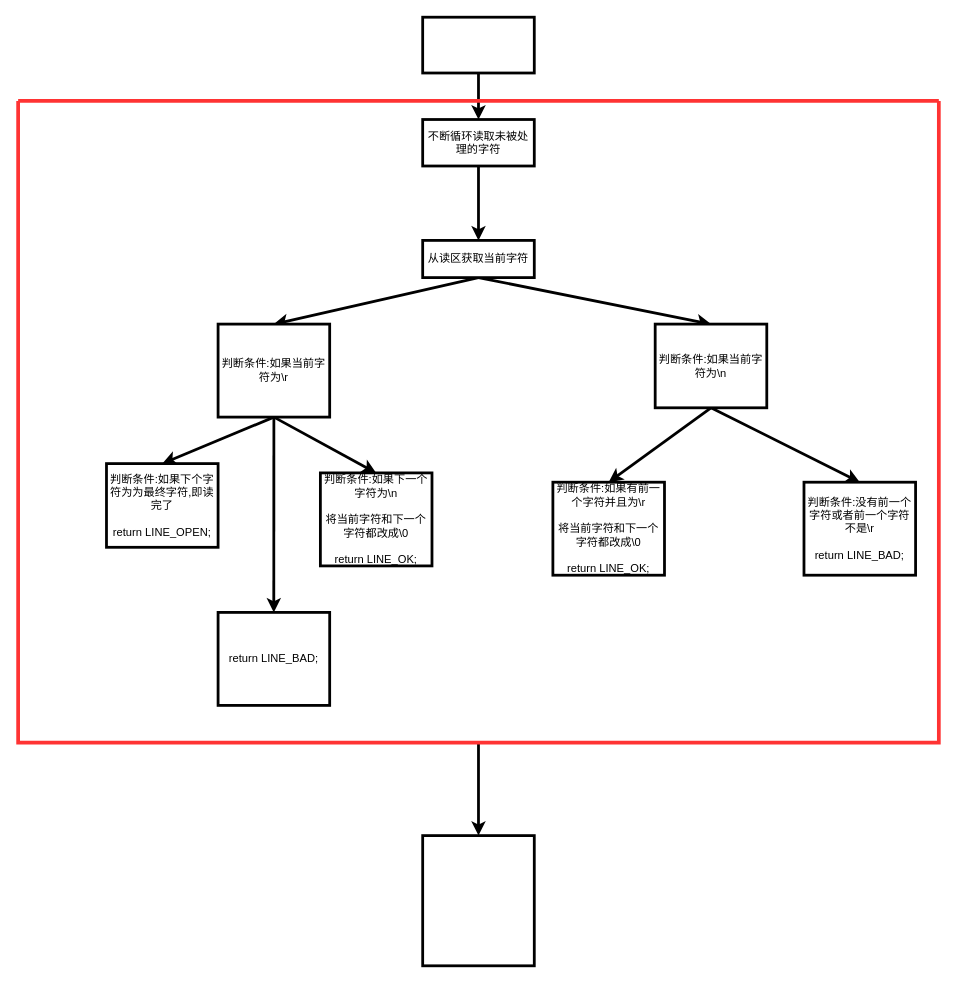
This 956x983 diagram has some shape labels left out. The centre of each missing label's shape, as x and y in pixels:
parse_line: the point at 478,44
return LINE_OPEN;: the point at 478,900
